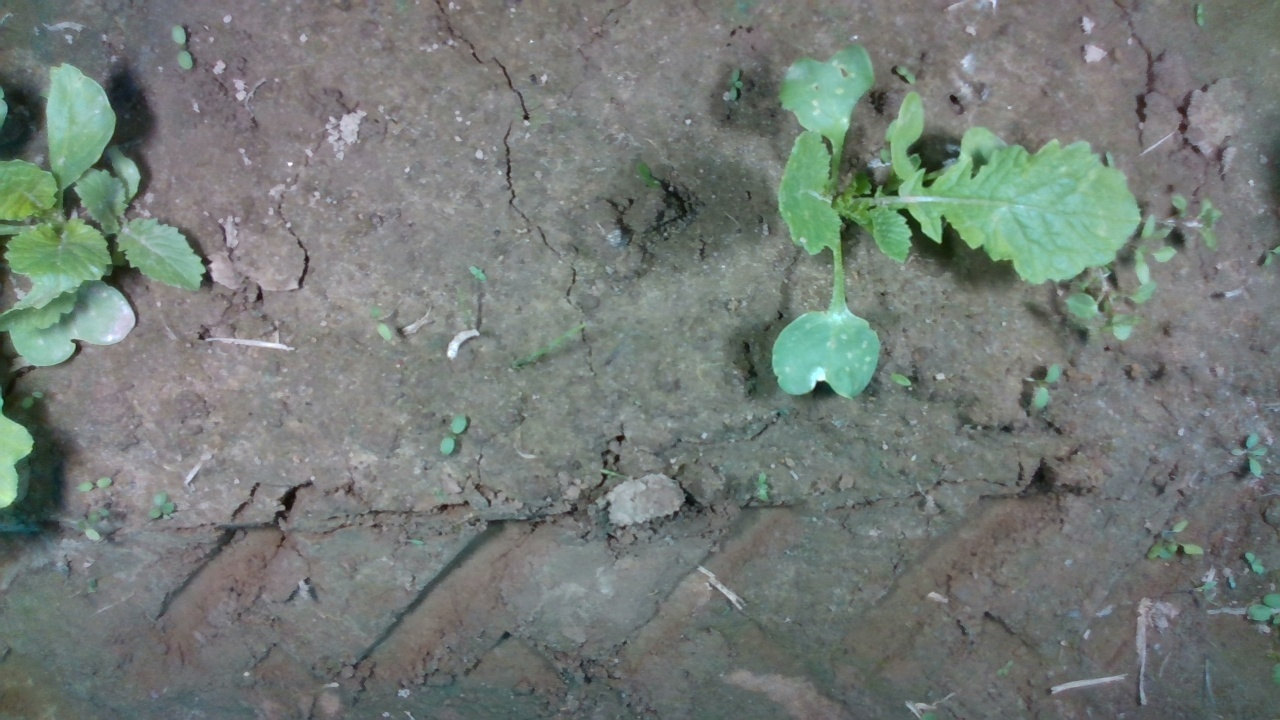weed: (1227, 429, 1268, 478), (1031, 361, 1062, 413), (438, 413, 469, 458), (170, 24, 195, 70), (146, 490, 177, 520), (74, 475, 114, 493), (725, 65, 744, 102), (1244, 549, 1266, 577), (893, 63, 917, 87)
